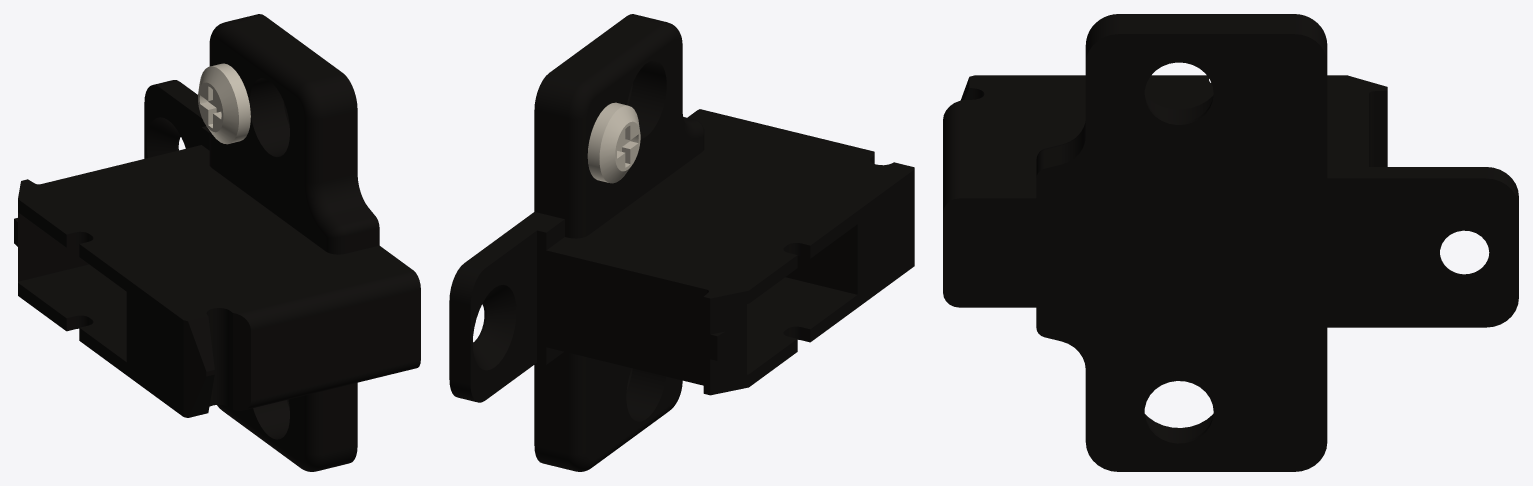
The picture shows the model from 3 angles, left to right: view 1: azimuth 30°, elevation 25°; view 2: azimuth 150°, elevation 25°; view 3: azimuth 270°, elevation 25°; orthographic projection. The views are drawn at different scales.
Parts seen in each view (by area): view 1: bau0006173177; view 2: bau0006173177; view 3: bau0006173177.
Part boxes in pixels (x1,y1,x2,y2): bau0006173177: (14, 14, 420, 471); bau0006173177: (449, 14, 914, 471); bau0006173177: (943, 14, 1518, 471).
Size of the model in its own units: 26.5 by 44 by 52.45.
